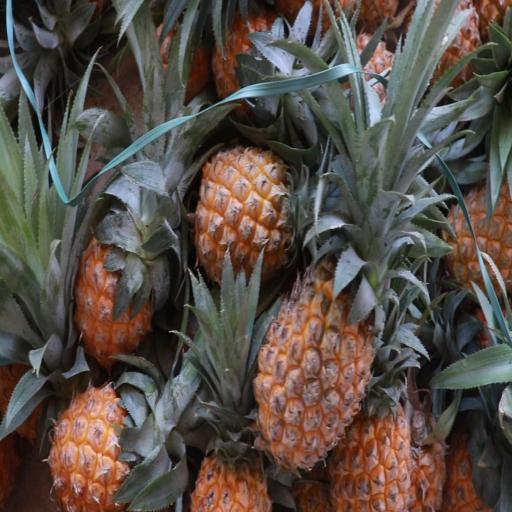Pineapple - v8 v1: (247, 236, 393, 479), (187, 142, 326, 302), (69, 203, 178, 375), (41, 374, 174, 512), (187, 366, 276, 512), (209, 1, 312, 127), (325, 367, 413, 512)
